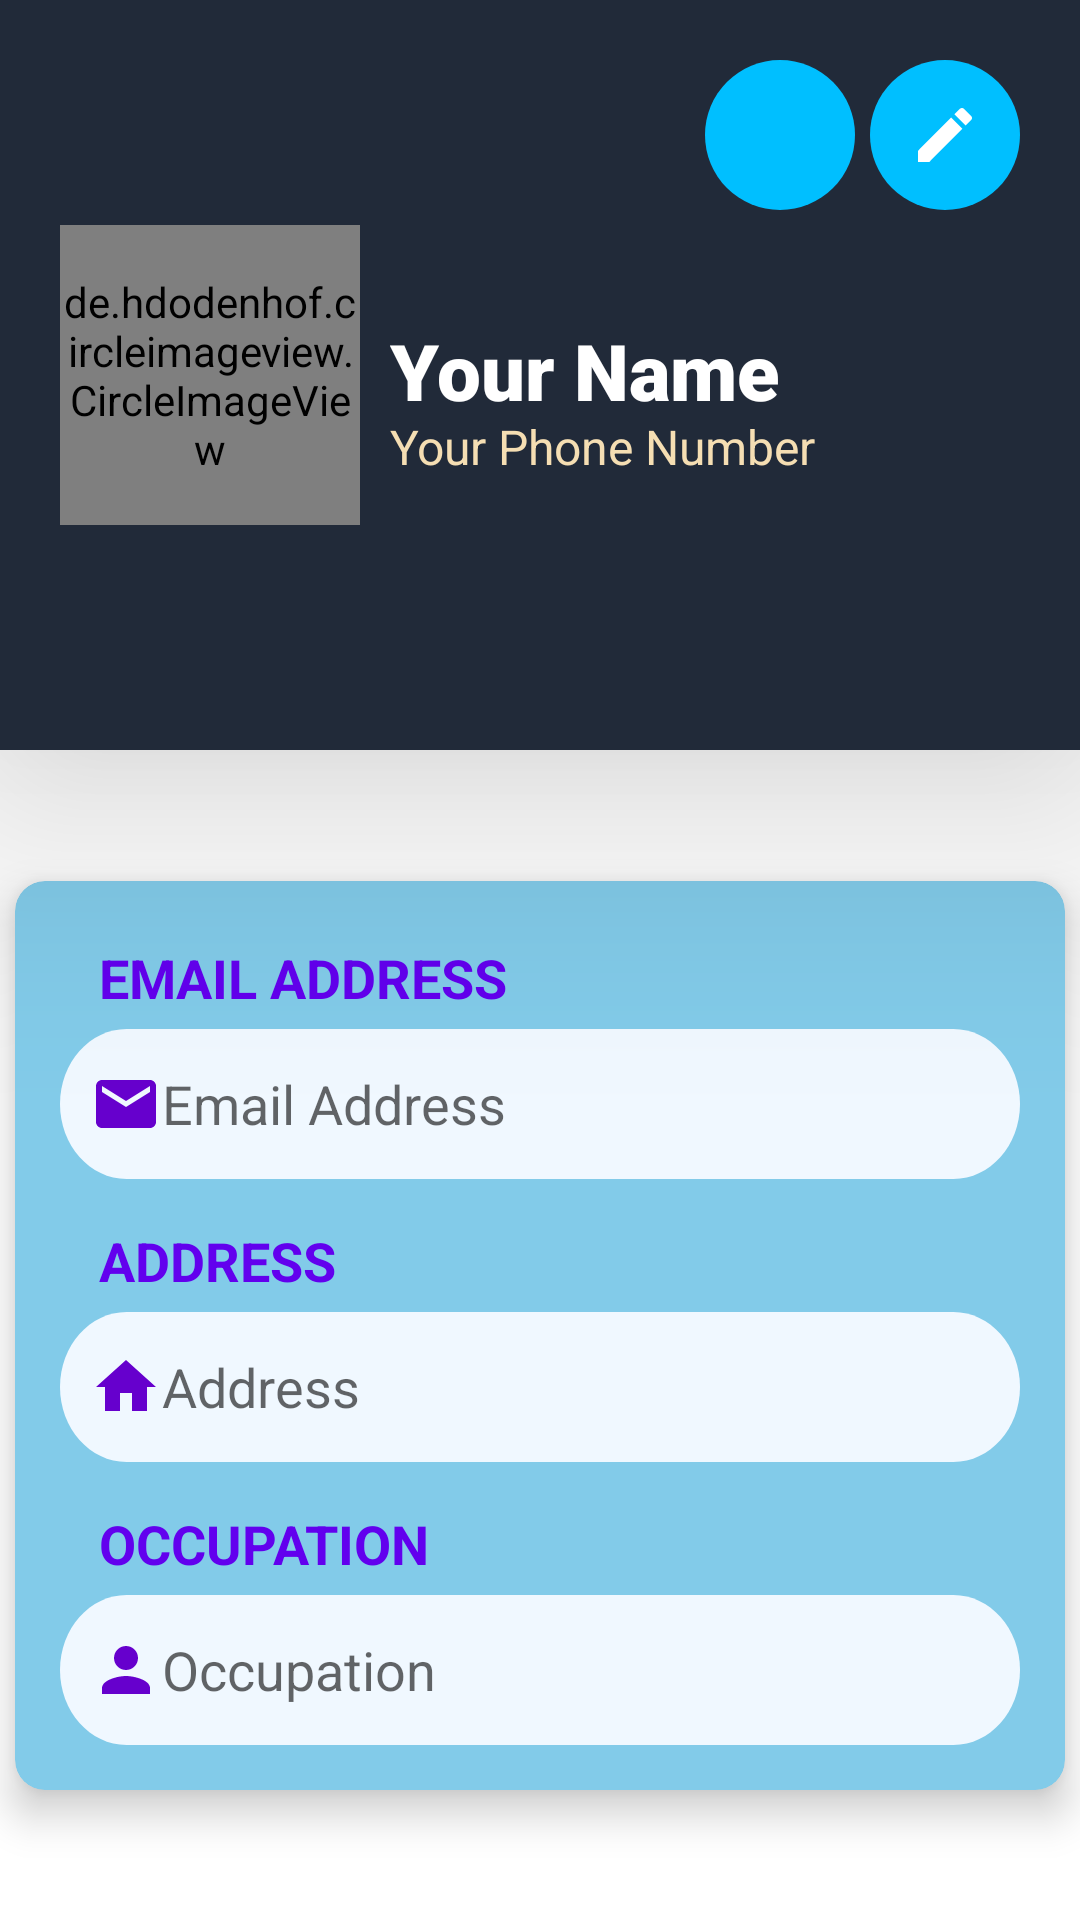

Icons on this 1080×1920 Android screen, each with the point to tap as [x,y]:
edit: [945,135]
